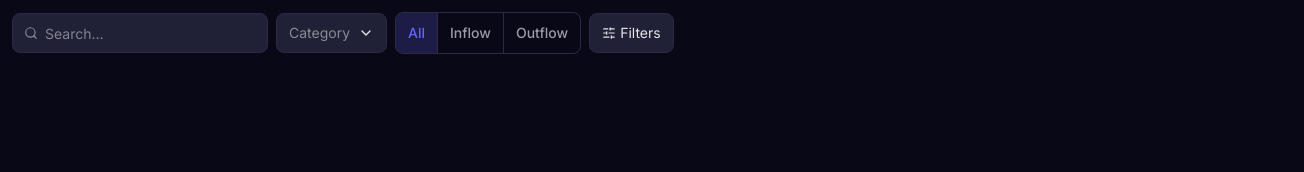
Test: FilterBar — clear-all › shows Clear all only when a filter is active, and resets on click
The width and height of the screenshot is (1304, 172).
expect the text "Clear all" is not shown: met
Step 1. Type "coffee" into the field with placeholder "Search…" → (140, 33), box 12,13 -> 268,53
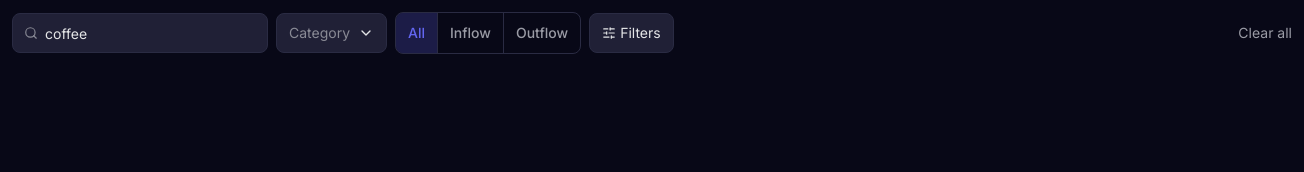
expect the button "Clear all" is shown: met
Step 2. Click the button "Clear all" → (1265, 33), box 1238,23 -> 1292,43
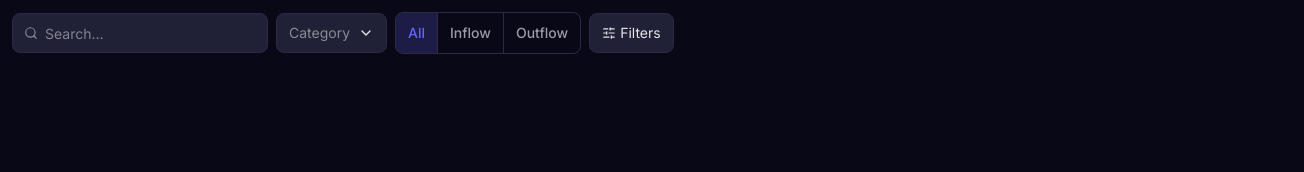
expect the field with placeholder "Search…" is empty: met, box 12,13 -> 268,53
expect the button "Clear all" is gone: met
